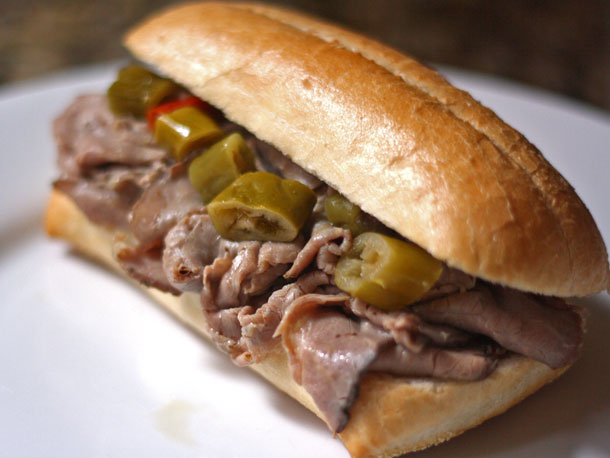sandwich: (13, 4, 609, 456)
